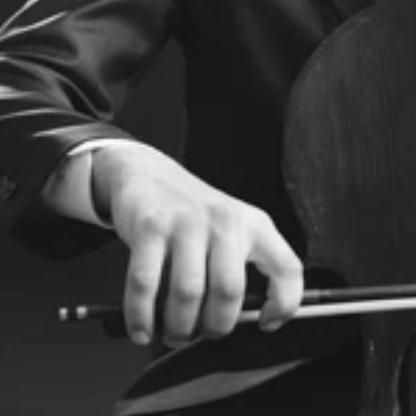good: (107, 165, 321, 358)
